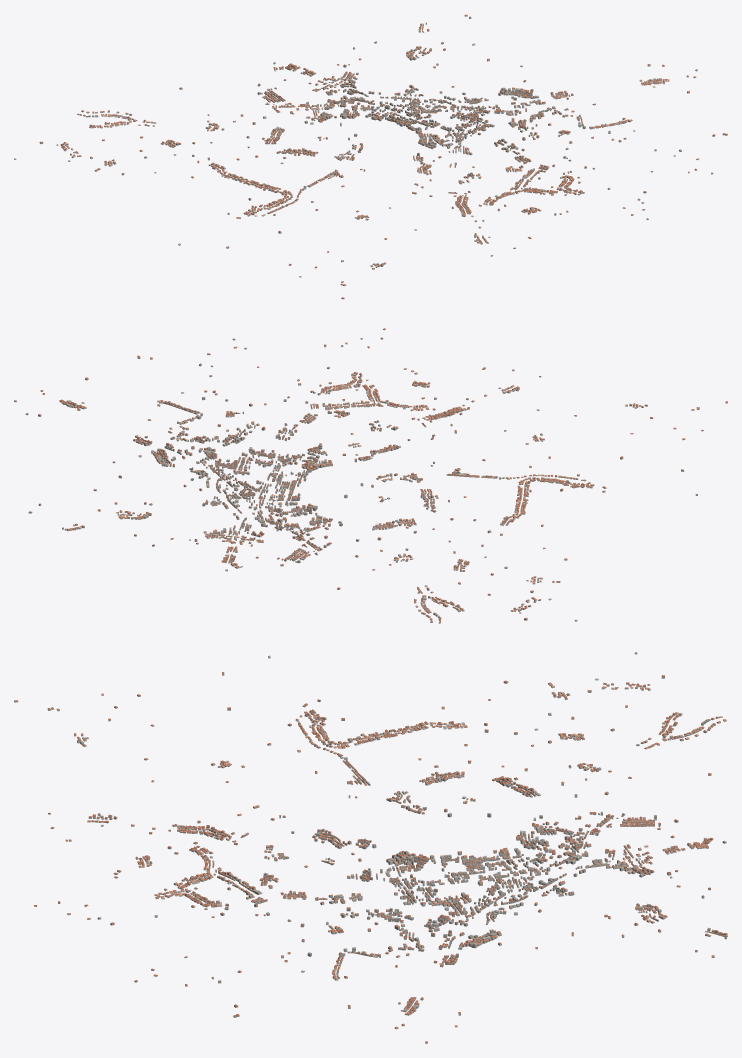
File: mundo-bairros.glb
3 renders of one model, top to bottom at view 1: azimuth 30°, elevation 25°; view 2: azimuth 150°, elevation 25°; view 3: azimuth 270°, elevation 25°, orthographic. The views are drawn at different scales.
Parts seen in each view (by area): view 1: Bairros; view 2: Bairros; view 3: Bairros.
Part boxes in pixels (<box>): Bairros: <box>14,14,727,299</box>; Bairros: <box>14,328,727,623</box>; Bairros: <box>14,652,727,1043</box>.
Size of the model in its own units: 5539 by 137 by 4281.
